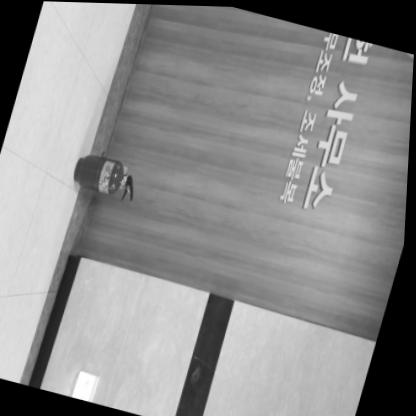FE: (70, 149, 144, 202)
